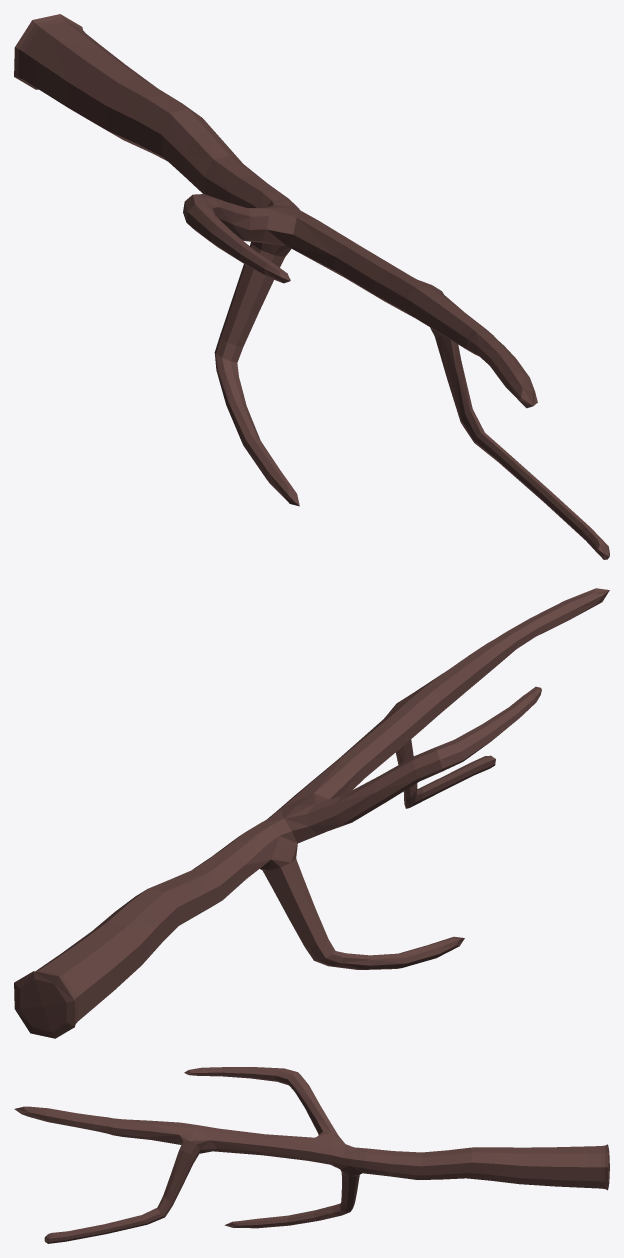
The model's file is tree-bare-deciduous-3-32-ft.obj.
3 views of the same model, one above another, from view 1: azimuth 30°, elevation 25°; view 2: azimuth 150°, elevation 25°; view 3: azimuth 270°, elevation 25° (orthographic). The views are drawn at different scales.
Parts seen in each view (by area): view 1: tree-bare-deciduous-3-32-ft; view 2: tree-bare-deciduous-3-32-ft; view 3: tree-bare-deciduous-3-32-ft.
Part boxes in pixels (x1,y1,x2,y2): tree-bare-deciduous-3-32-ft: (14,14,609,559); tree-bare-deciduous-3-32-ft: (14,588,609,1038); tree-bare-deciduous-3-32-ft: (14,1067,609,1243).
Bounding box in the file's own units: 81.27 × 104 × 384.
